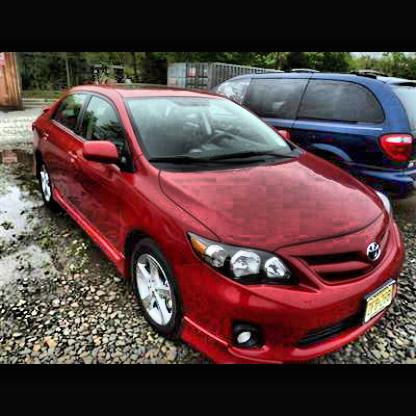Toyota Corolla Sedan 2012: (32, 88, 408, 364)
